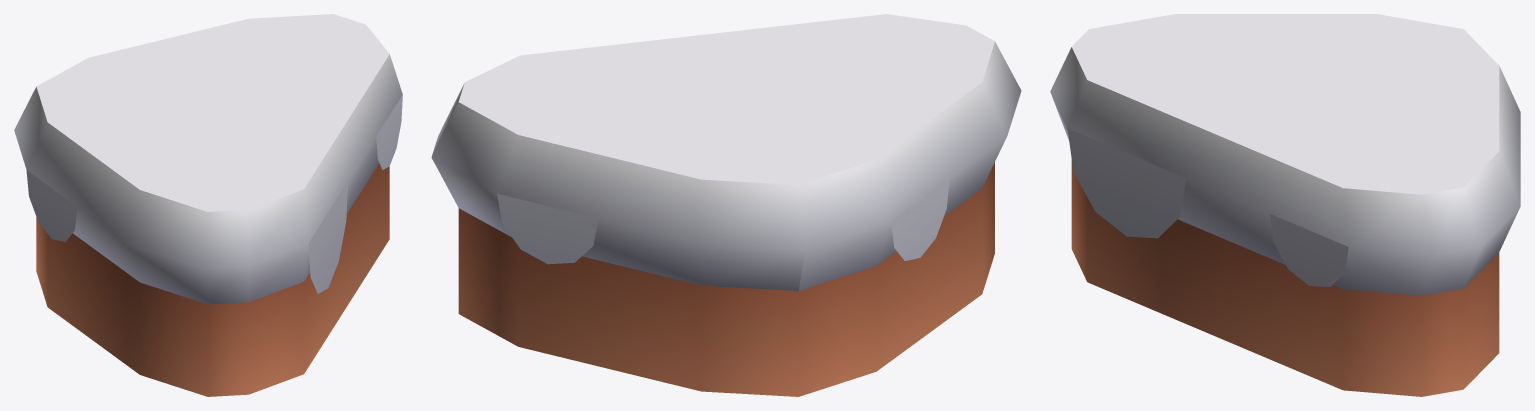
The model's file is kenney-platformer-block-snow-corner-overhang-low.glb.
The picture shows the model from 3 angles, left to right: view 1: azimuth 30°, elevation 25°; view 2: azimuth 150°, elevation 25°; view 3: azimuth 270°, elevation 25°; orthographic projection. The views are drawn at different scales.
Parts seen in each view (by area): view 1: block-snow-corner-overhang-low; view 2: block-snow-corner-overhang-low; view 3: block-snow-corner-overhang-low.
Boxes of the visible parts, left/top/right/bottom form: block-snow-corner-overhang-low: left=14, top=14, right=402, bottom=396; block-snow-corner-overhang-low: left=431, top=14, right=1021, bottom=396; block-snow-corner-overhang-low: left=1050, top=14, right=1520, bottom=396.
Size of the model in its own units: 1.05 by 0.5 by 1.05.
Materials: 1 (1 with a texture image).
